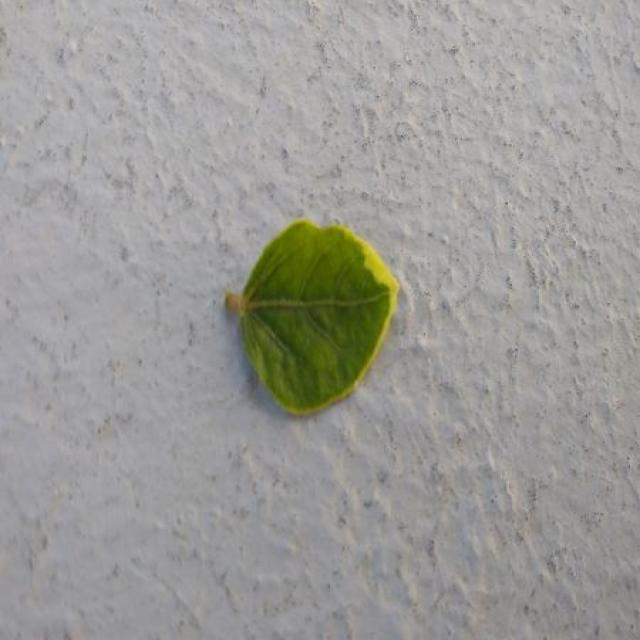Hibiscus: (227, 220, 398, 413)
dieback: (243, 220, 398, 376)
